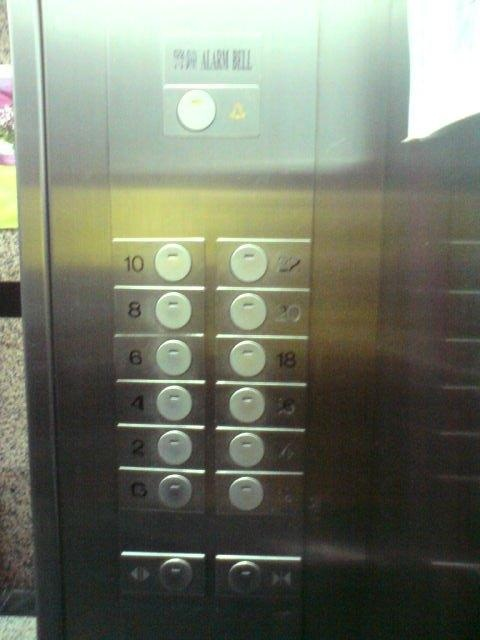10: (109, 236, 208, 288)
18: (213, 331, 311, 385)
2: (112, 419, 208, 472)
20: (212, 283, 312, 339)
22: (209, 233, 313, 286)
4: (111, 375, 209, 429)
6: (110, 330, 208, 383)
8: (110, 281, 207, 336)
G: (114, 464, 208, 517)
alarm: (159, 81, 263, 141)
blur: (213, 378, 310, 432), (212, 423, 309, 475), (212, 467, 308, 519)
close: (213, 553, 304, 604)
open: (115, 548, 208, 603)
